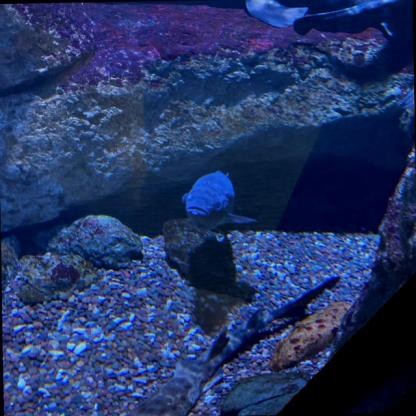fish: (183, 170, 256, 225)
shark: (118, 277, 341, 415), (239, 0, 413, 40)
